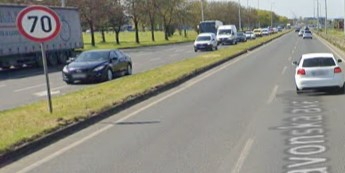Ograničenje brzine 70: (16, 4, 62, 42)
